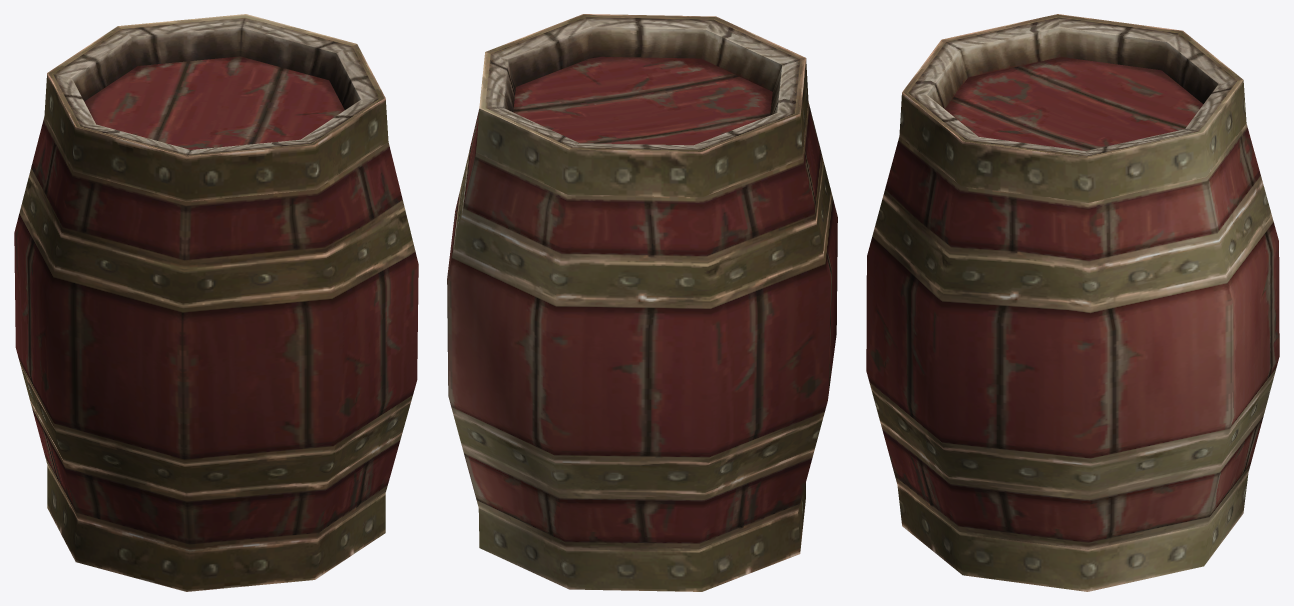
File: mutong.FBX
The picture shows the model from 3 angles, left to right: view 1: azimuth 30°, elevation 25°; view 2: azimuth 150°, elevation 25°; view 3: azimuth 270°, elevation 25°; orthographic projection.
Parts seen in each view (by area): view 1: Geoset_114; view 2: Geoset_114; view 3: Geoset_114.
Boxes of the visible parts, x1,y1,x2,y2 form: Geoset_114: (14, 14, 418, 591); Geoset_114: (447, 14, 837, 591); Geoset_114: (866, 14, 1279, 591).
Size of the model in its own units: 0.258 by 0.3042 by 0.2627.
